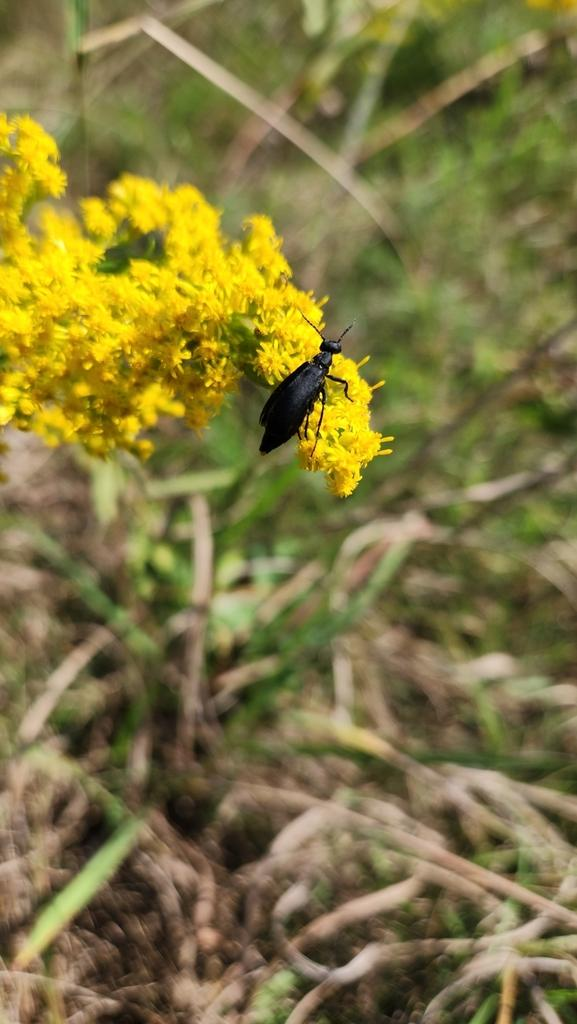blister_beetle: (208, 277, 395, 498)
